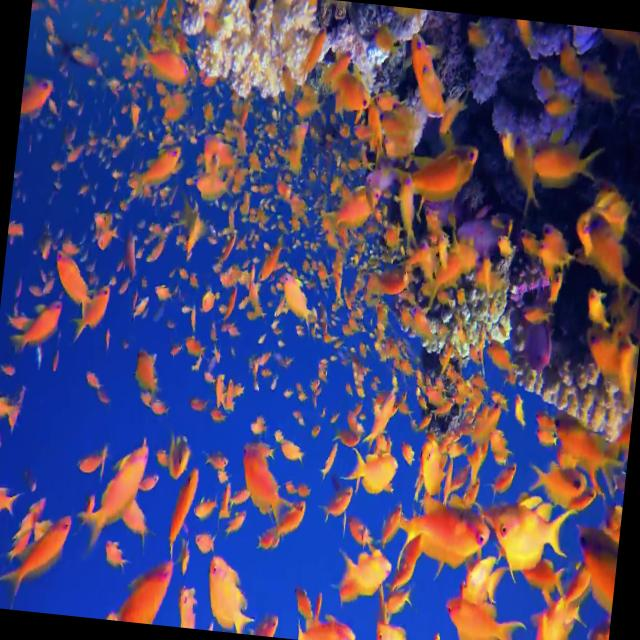fish: (0, 506, 74, 614), (388, 496, 493, 570), (486, 492, 572, 580), (202, 554, 258, 634), (529, 134, 603, 184)
